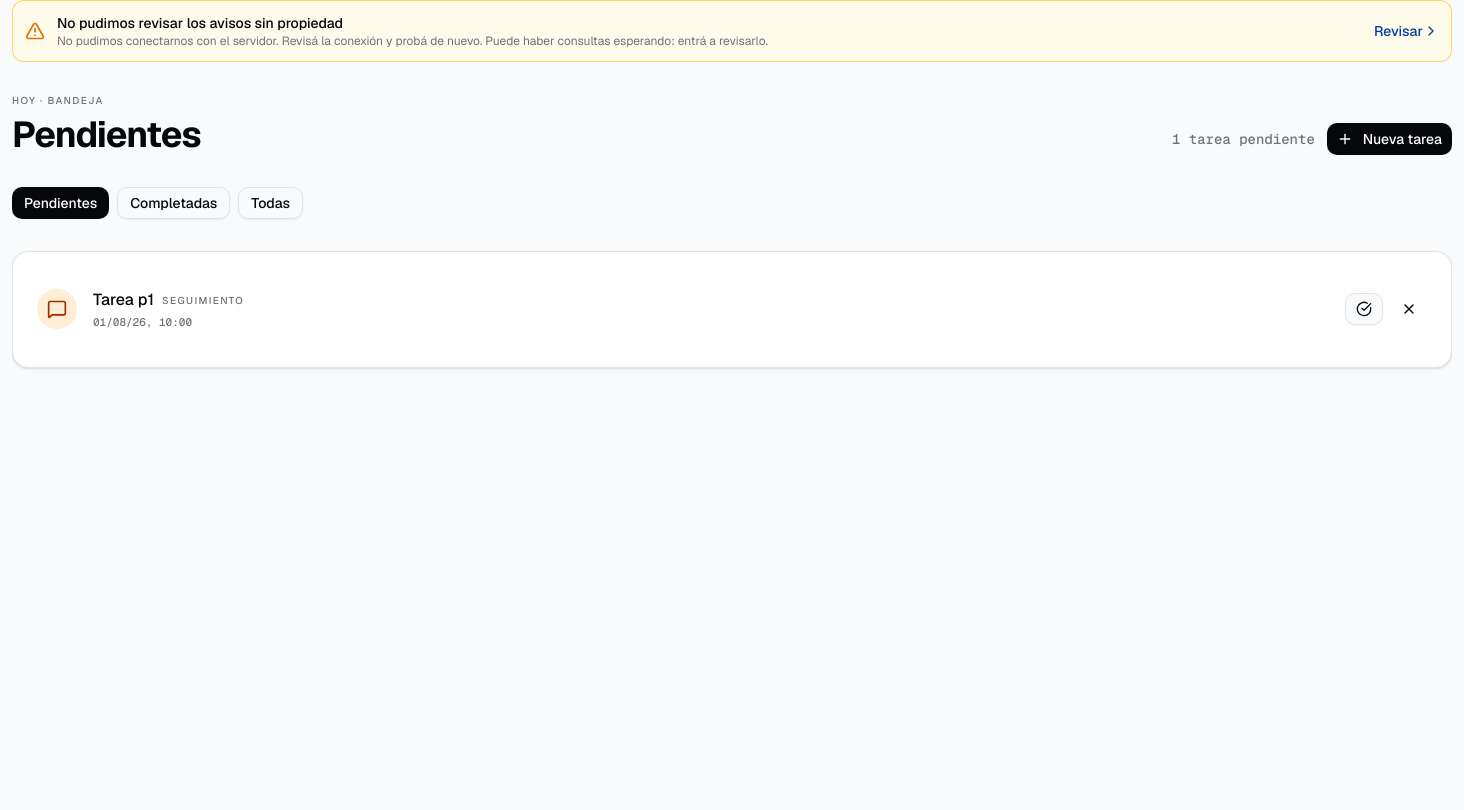
/tasks — D12: "Todas" muestra de verdad todas › pide los tres estados por nombre y junta los lotes (las descartadas dejan de ser inalcanzables)
The width and height of the screenshot is (1464, 810).
expect the text "Tarea p1" is shown: met, box [93,288,154,312]
Click the button "Todas": click(271, 203) [238,187,303,219]
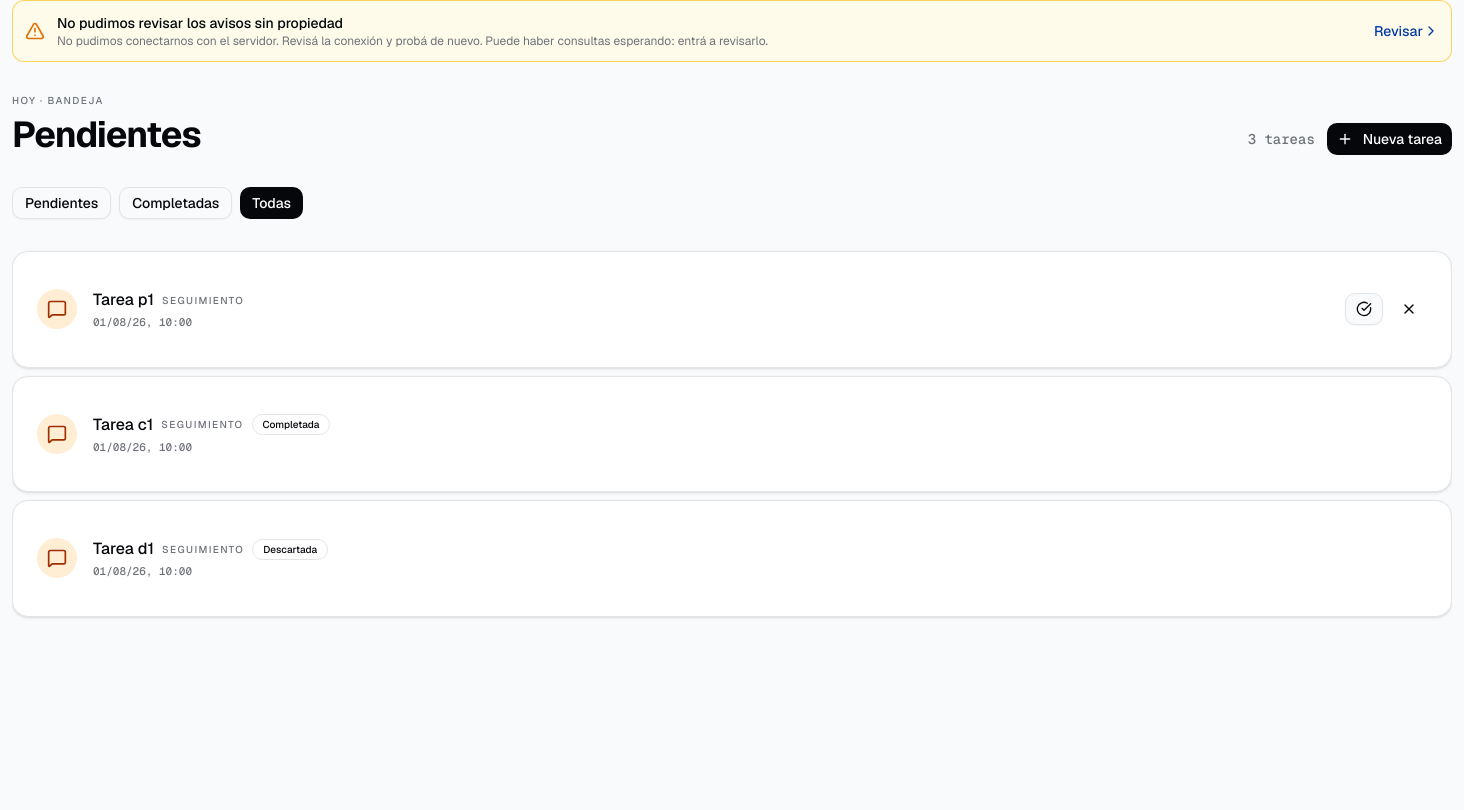
expect the text "Tarea d1" is shown: met, box [93,537,154,561]
expect the text "Tarea c1" is shown: met, box [93,412,153,436]
expect the text "3 tareas" is shown: met, box [1248,129,1315,149]
